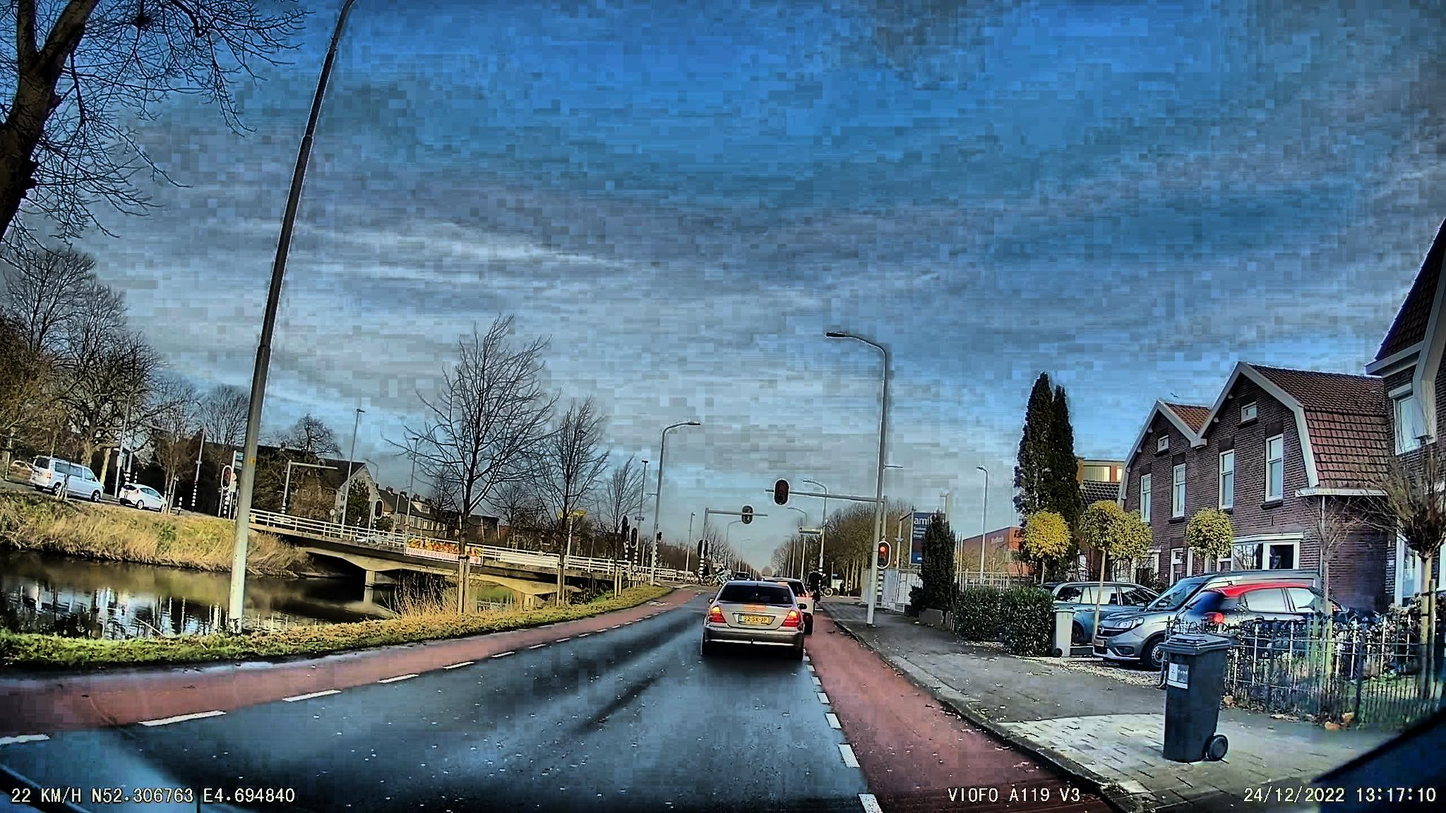Roads: (0, 597, 1118, 813)
